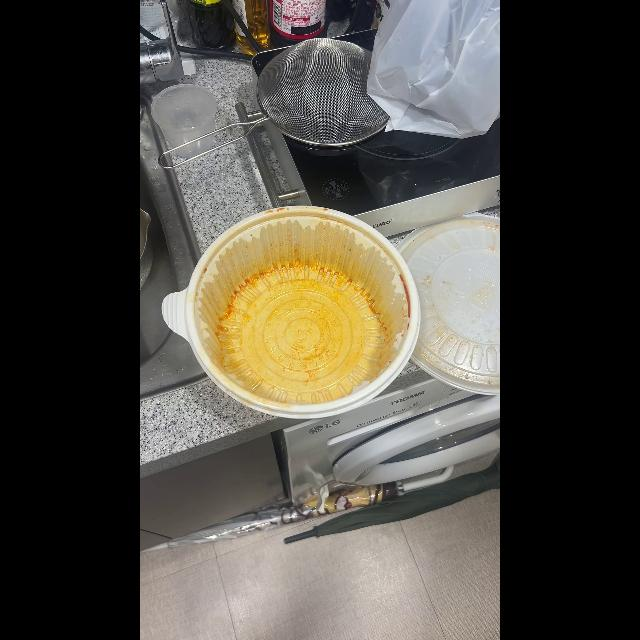dirty: (190, 214, 416, 406)
